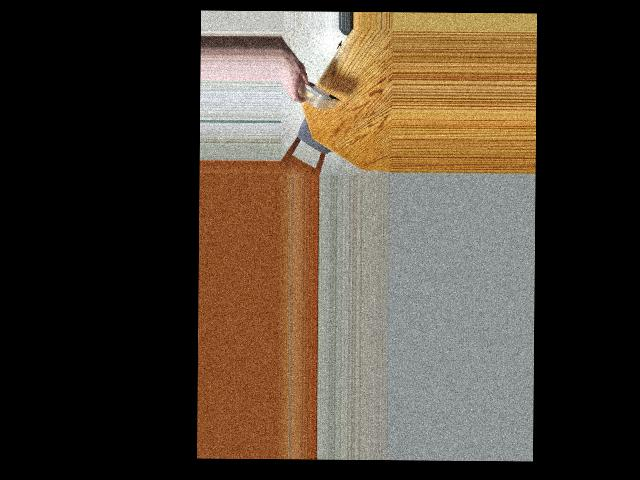cheese: (295, 82, 338, 109)
